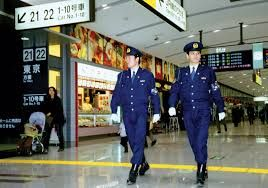uniform: (175, 62, 215, 171), (114, 69, 156, 172)
